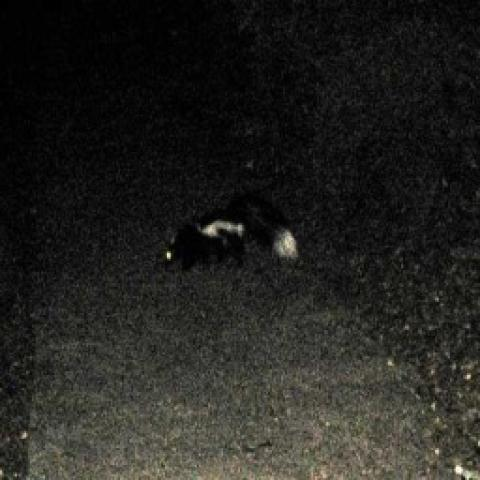small_animal: (157, 188, 302, 274)
